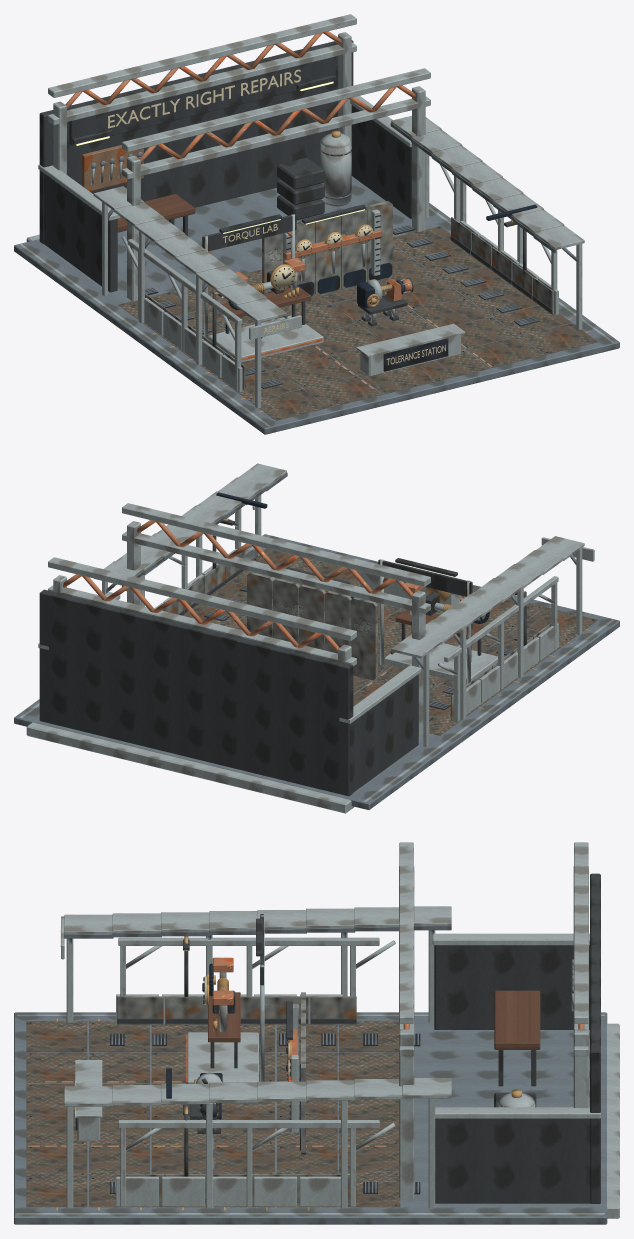
Rendered from calibration-spire-garage.glb.
The picture shows the model from 3 angles, top to bottom: view 1: azimuth 30°, elevation 25°; view 2: azimuth 150°, elevation 25°; view 3: azimuth 270°, elevation 25°; orthographic projection. The views are drawn at different scales.
Visible parts, largest first — view 1: calibration-spire-garage, Exactly Right Repairs drive; view 2: calibration-spire-garage; view 3: calibration-spire-garage.
Boxes of the visible parts, bbox=[...] form: calibration-spire-garage: bbox=[14, 14, 619, 434]; Exactly Right Repairs drive: bbox=[357, 278, 407, 314]; calibration-spire-garage: bbox=[14, 463, 619, 813]; calibration-spire-garage: bbox=[14, 842, 619, 1224].
Bounding box in the file's own units: 16.9 × 7.59 × 21.09.
Materials: 16 (14 with a texture image).
